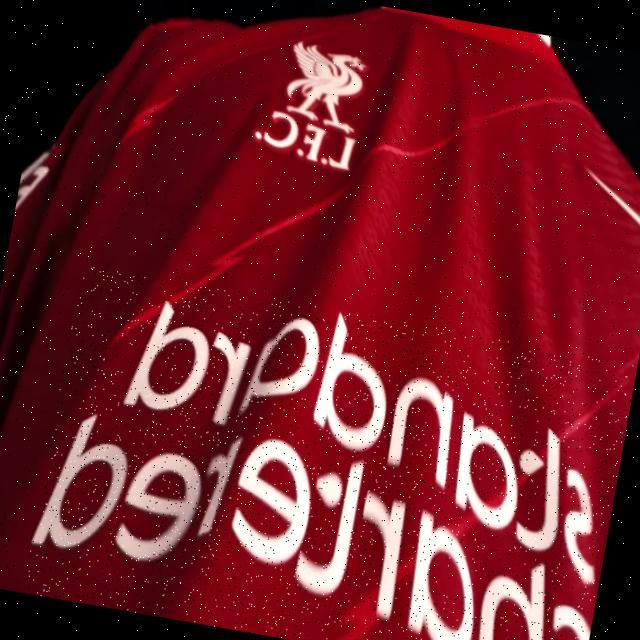Standard Chartered: (22, 264, 636, 640)
